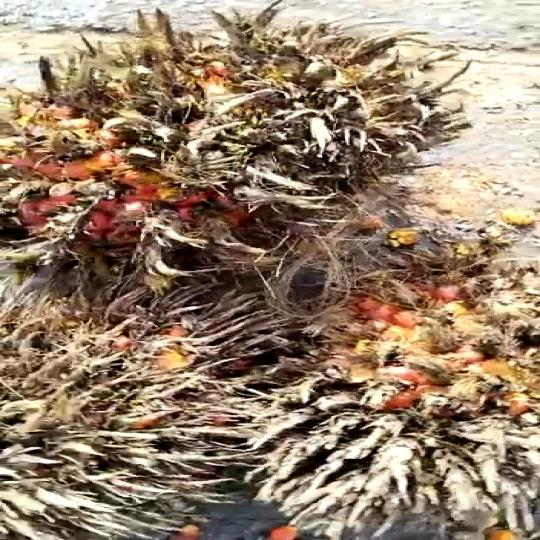terlalu masak: (38, 28, 470, 283), (220, 263, 540, 531)
